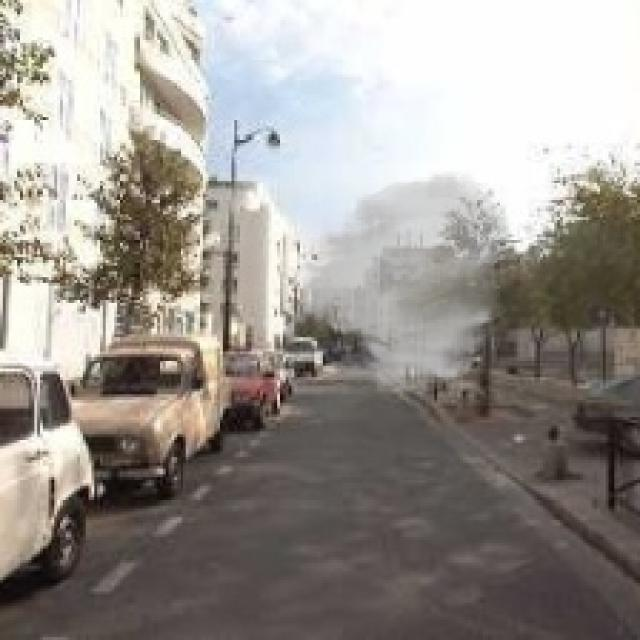Smoke: (288, 168, 514, 398)
